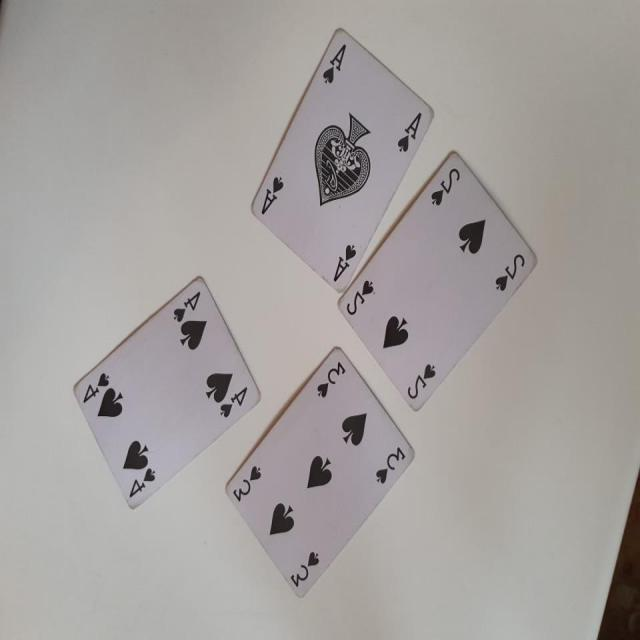2 of spades: (337, 149, 540, 416)
3 of spades: (224, 348, 423, 606)
4 of spades: (71, 276, 261, 509)
ace of spades: (252, 28, 438, 292)
